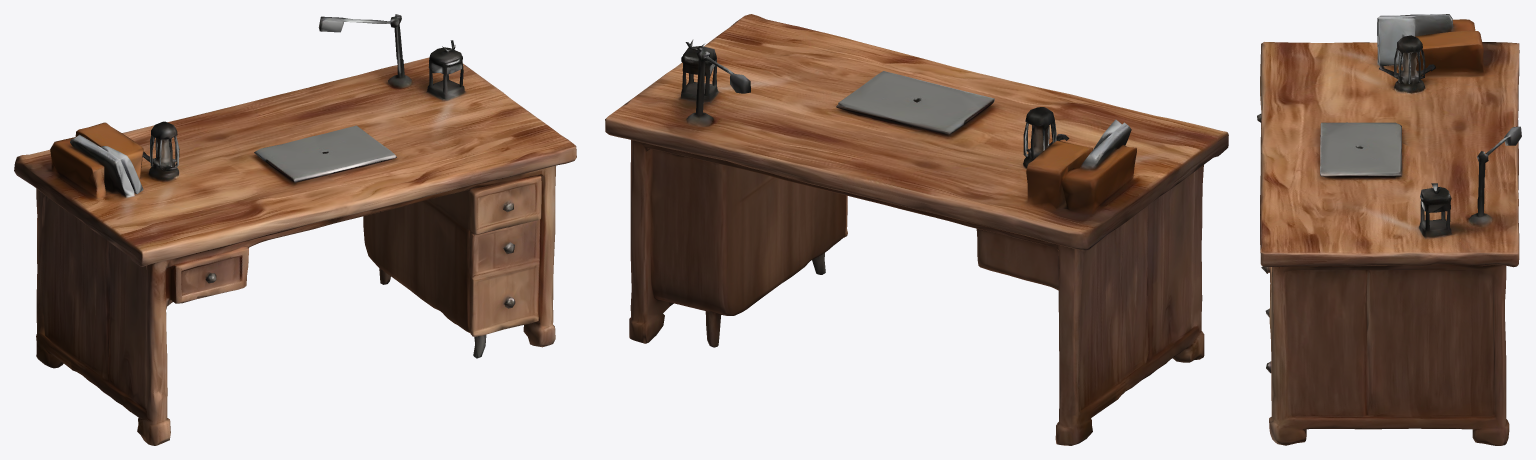
Rendered from tripo_convert_13281f62-f48d-4b01-8e19-a882c0b0b6c2.fbx.
The picture shows the model from 3 angles, left to right: view 1: azimuth 30°, elevation 25°; view 2: azimuth 150°, elevation 25°; view 3: azimuth 270°, elevation 25°; orthographic projection. The views are drawn at different scales.
Visible parts, largest first — view 1: tripo_node_13281f62; view 2: tripo_node_13281f62; view 3: tripo_node_13281f62.
Boxes of the visible parts, x1,y1,x2,y2 form: tripo_node_13281f62: (14, 14, 576, 445); tripo_node_13281f62: (605, 14, 1228, 445); tripo_node_13281f62: (1257, 14, 1521, 445).
Bounding box in the file's own units: 1 × 0.5906 × 0.5266.
1 material, 1 textured.
